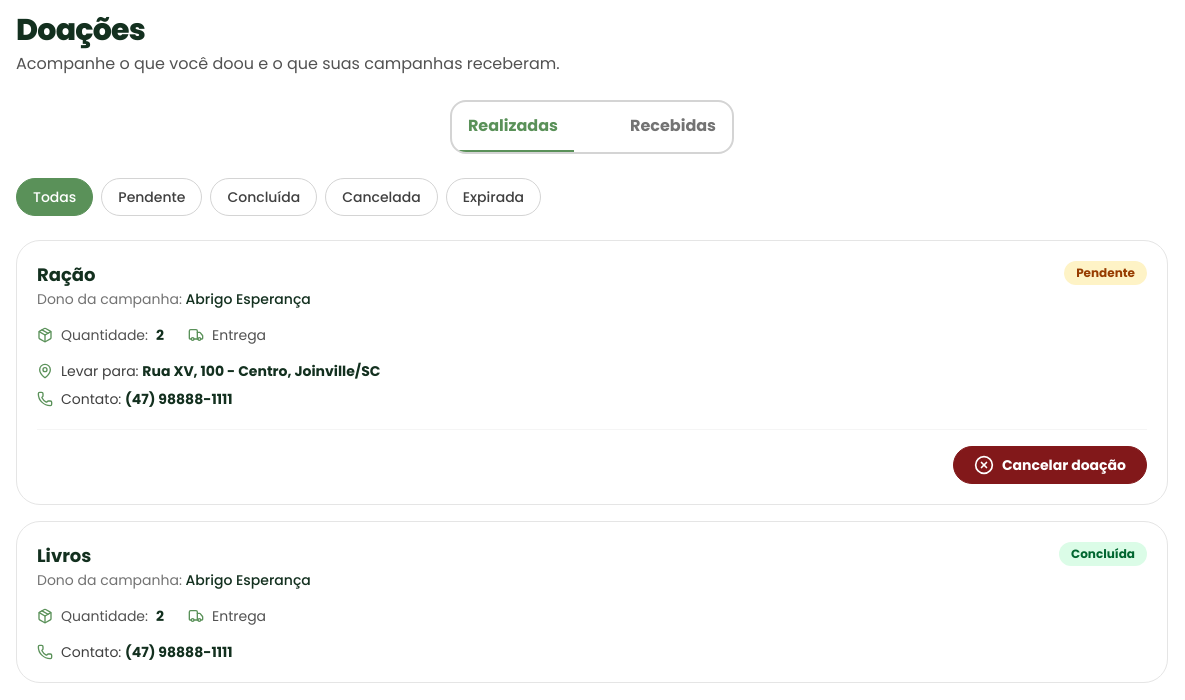
Test: MyCampaignsAndDonationsPage › aba "Realizadas" (o que eu doei) › filtra por status
Expected: the link "Ração" is shown, [37,262,96,287]
Click the button "Concluída": (264, 197) [210,178,317,216]
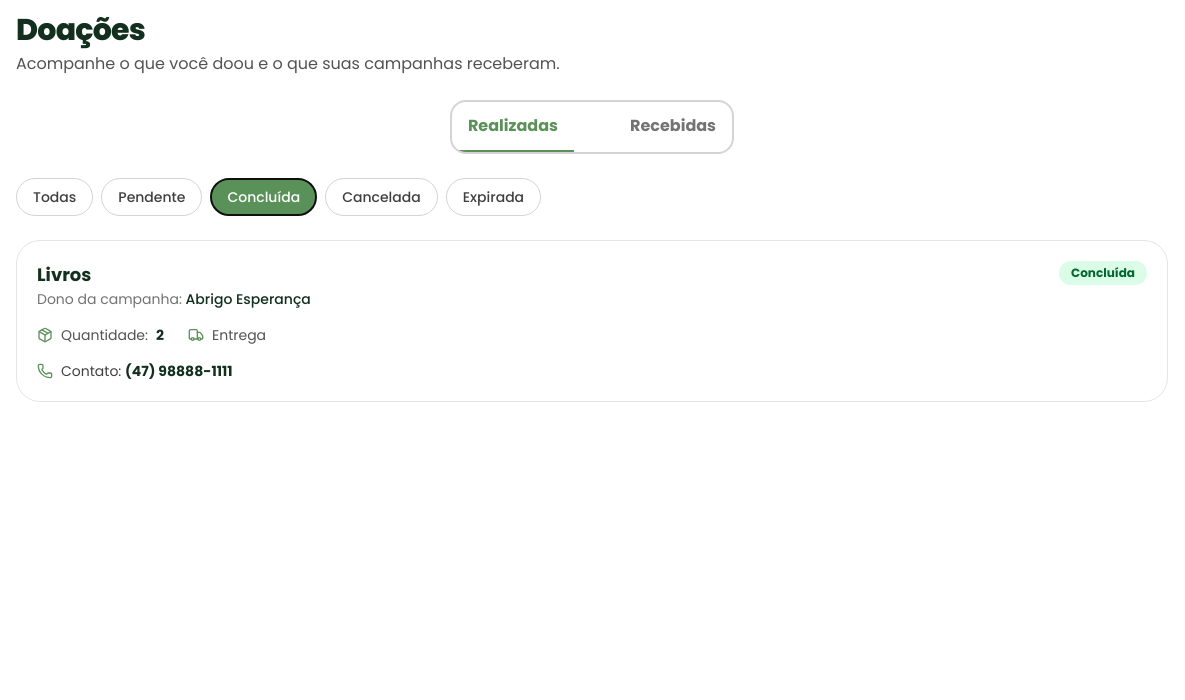
Expected: the link "Livros" is shown, [37,262,91,287]
Expected: the link "Ração" is gone
